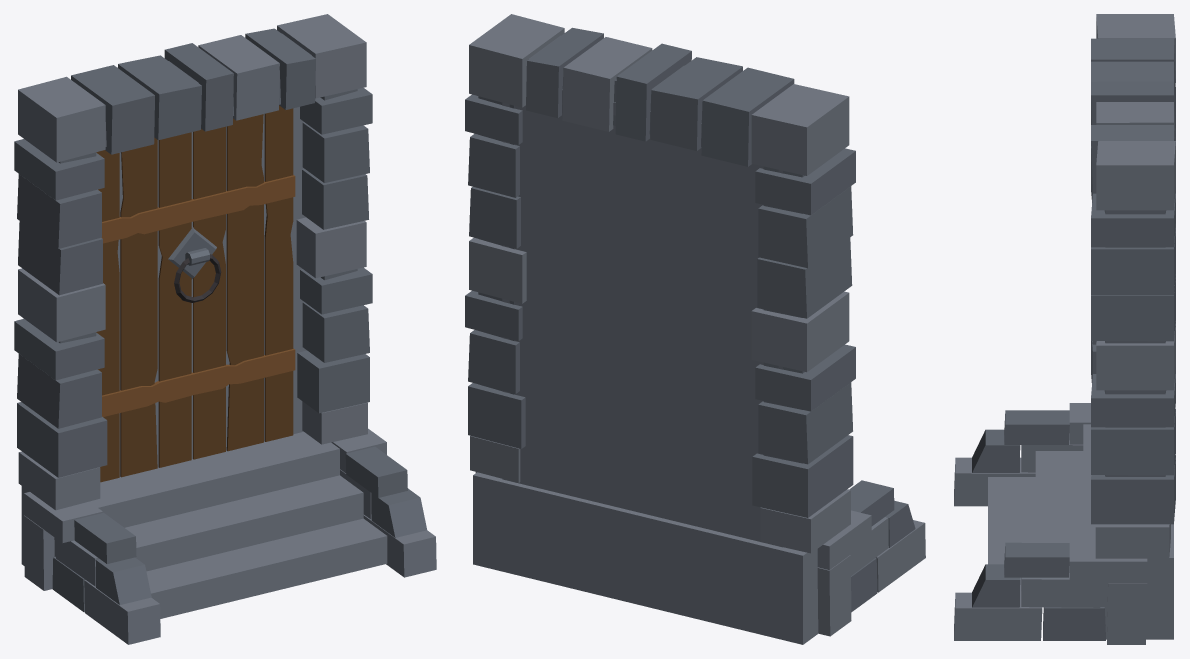
File: quaternius-medieval-village-door-straight.glb
3 renders of one model, left to right at view 1: azimuth 30°, elevation 25°; view 2: azimuth 150°, elevation 25°; view 3: azimuth 270°, elevation 25°, orthographic. The views are drawn at different scales.
Visible parts, largest first — view 1: Door_Straight; view 2: Door_Straight; view 3: Door_Straight.
Part boxes in pixels (x1,y1,x2,y2): Door_Straight: (14,14,436,644); Door_Straight: (465,14,925,644); Door_Straight: (954,14,1175,644).
Size of the model in its own units: 0.5013 by 0.7079 by 0.2963.
1 material, 1 textured.
